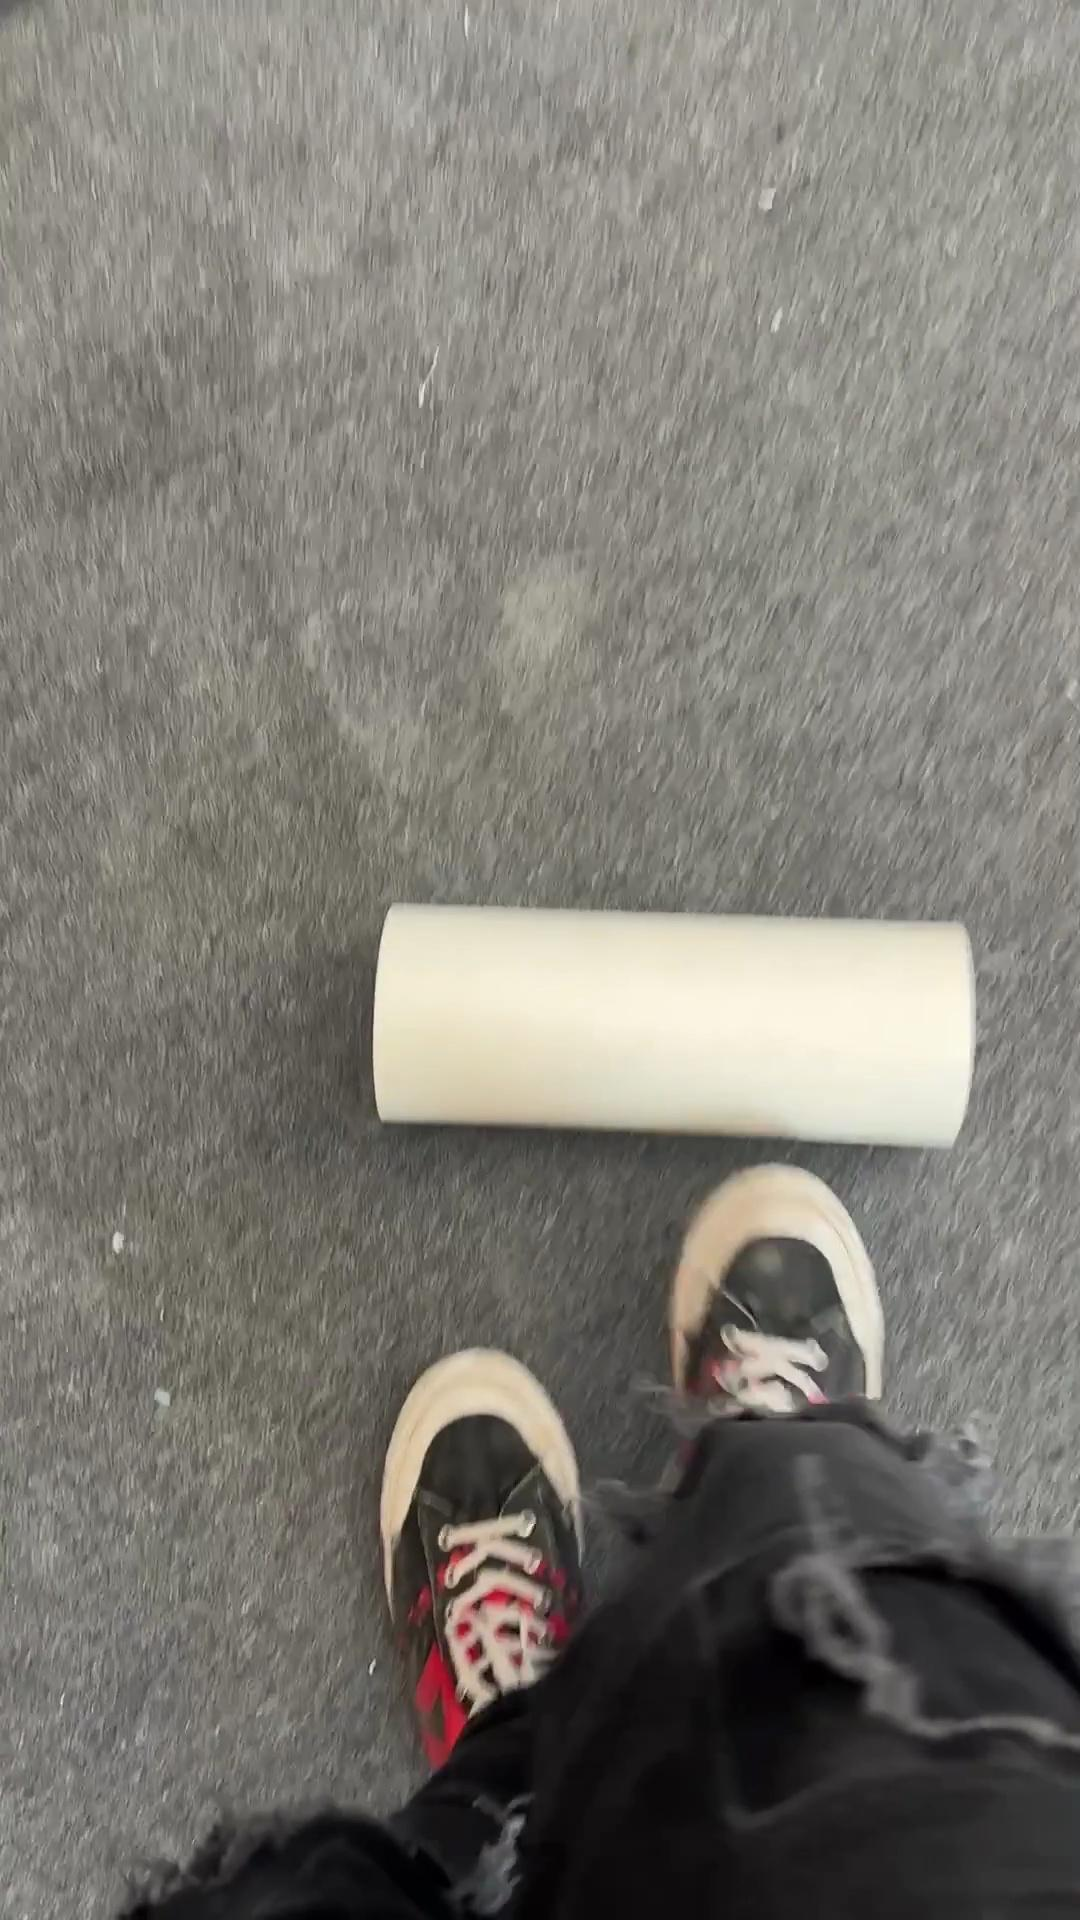CORAL: (368, 899, 978, 1151)
